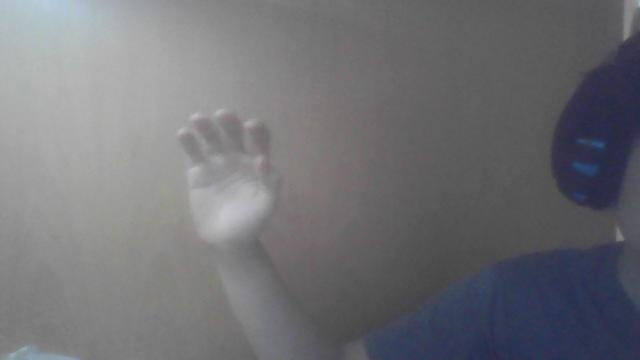Stop: (182, 108, 282, 253)
